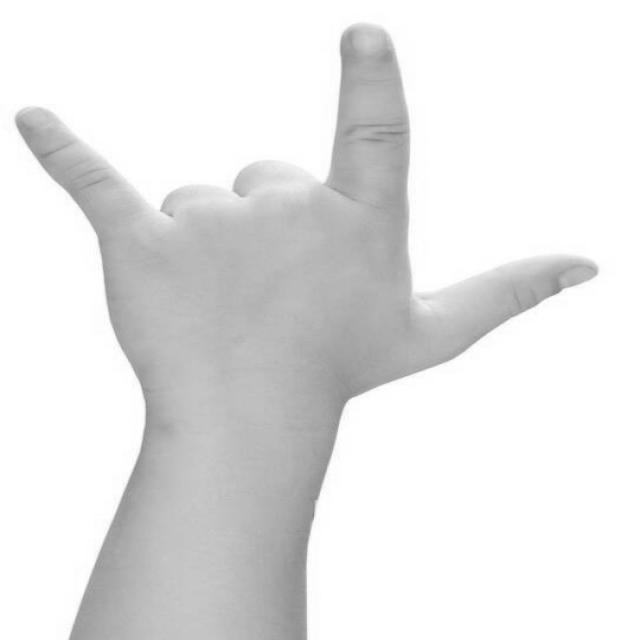i love you: (6, 14, 606, 437)
